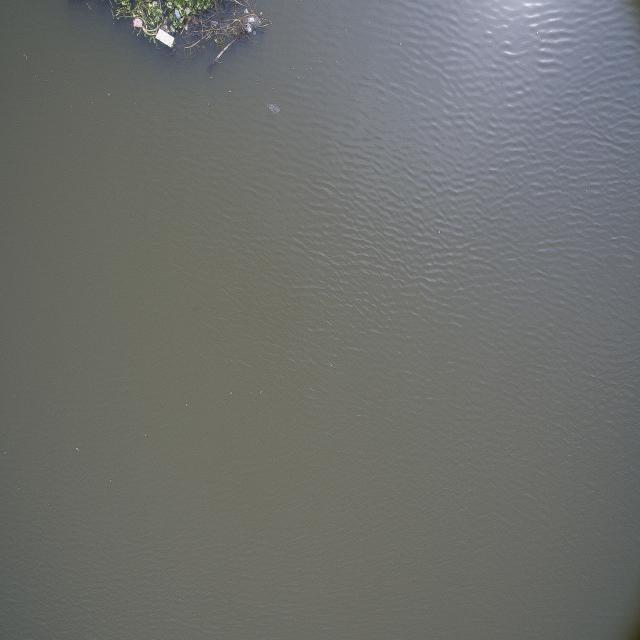Plastic: (154, 28, 175, 48), (133, 16, 143, 29), (174, 8, 181, 20)
